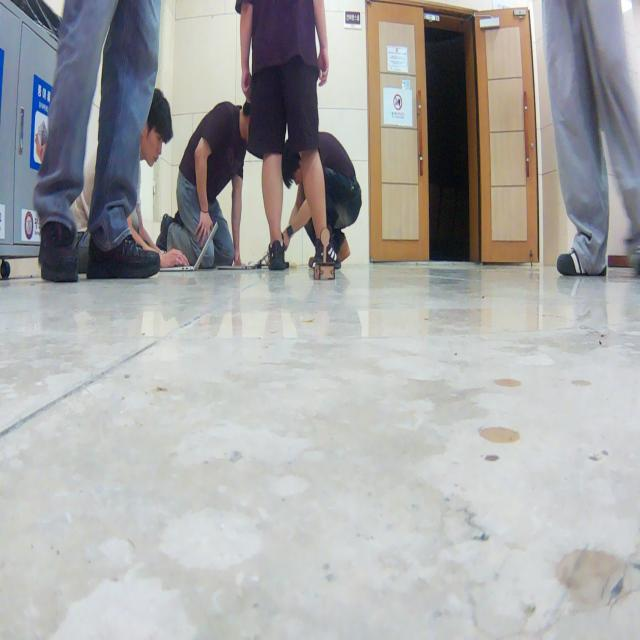target: (314, 228, 336, 280)
